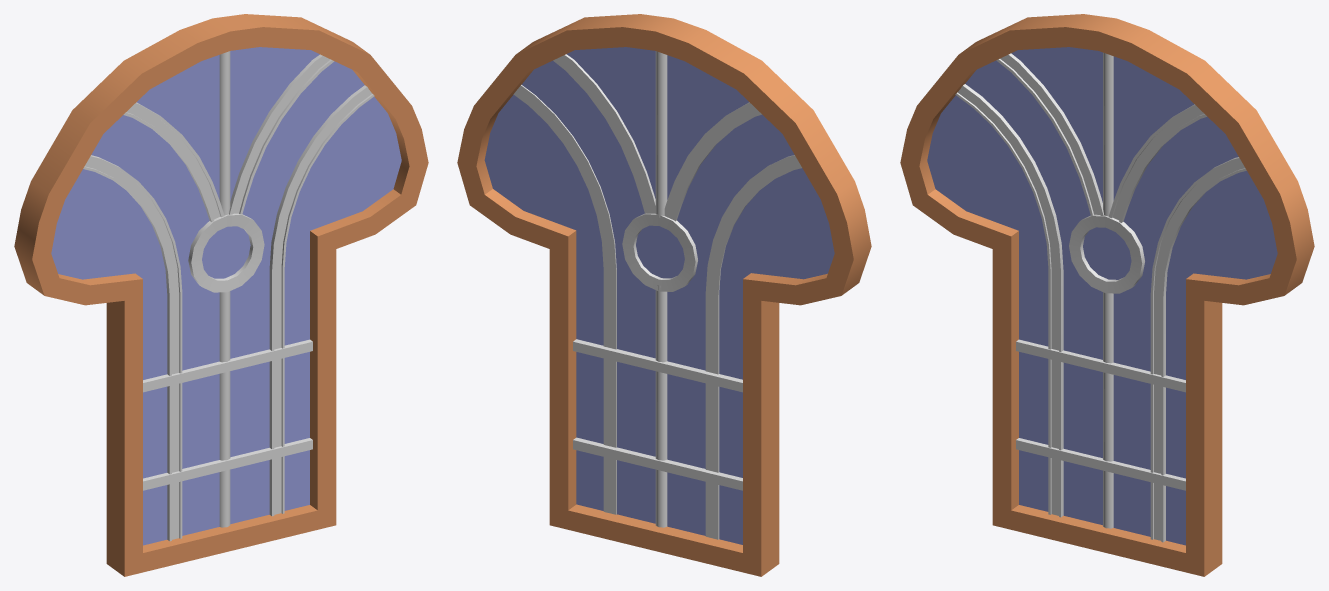
Rendered from SP_House02_Window03.fbx.
3 renders of one model, left to right at view 1: azimuth 30°, elevation 25°; view 2: azimuth 150°, elevation 25°; view 3: azimuth 330°, elevation 25°, orthographic.
Parts seen in each view (by area): view 1: SP_House02_Window03; view 2: SP_House02_Window03; view 3: SP_House02_Window03.
Part boxes in pixels (x1,y1,x2,y2): SP_House02_Window03: (14,14,428,576); SP_House02_Window03: (457,14,871,576); SP_House02_Window03: (900,14,1314,576).
Size of the model in its own units: 2.94 by 3.68 by 0.229.
